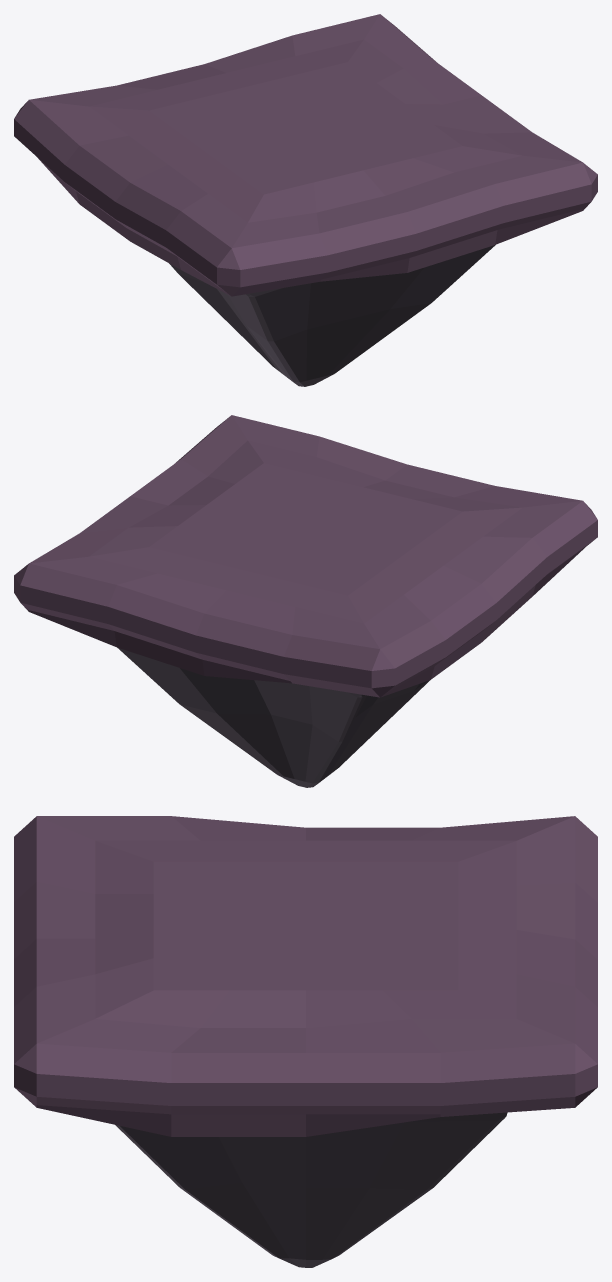
Rendered from floatingIsland.fbx.
3 renders of one model, top to bottom at view 1: azimuth 30°, elevation 25°; view 2: azimuth 150°, elevation 25°; view 3: azimuth 270°, elevation 25°, orthographic. The views are drawn at different scales.
Parts seen in each view (by area): view 1: FloatingIsland; view 2: FloatingIsland; view 3: FloatingIsland.
Boxes of the visible parts, box(x1,y1,x2,y2) form: FloatingIsland: box(14, 14, 597, 386); FloatingIsland: box(14, 415, 597, 787); FloatingIsland: box(14, 816, 597, 1267).
Bounding box in the file's own units: 1648 × 1050 × 1648.
